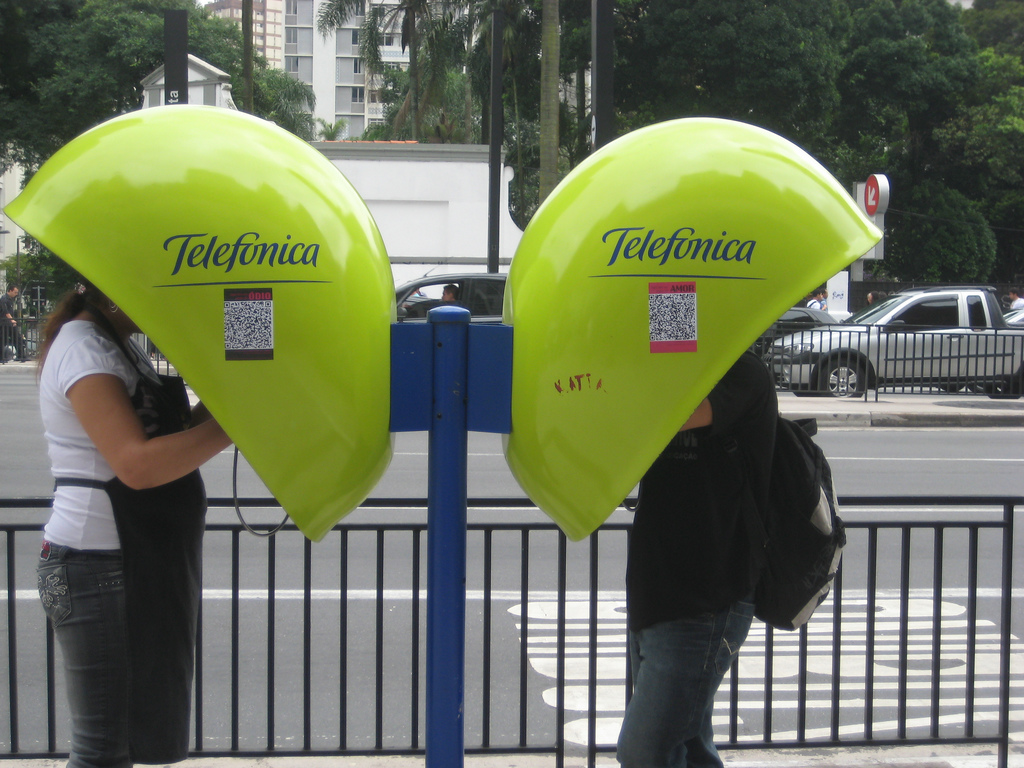QR-CODE: (224, 301, 271, 347), (649, 294, 694, 339)
